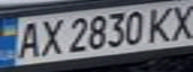0: (124, 8, 148, 46)
2: (63, 14, 90, 54)
3: (106, 10, 130, 48)
8: (87, 11, 112, 51)
A: (9, 19, 45, 60)
K: (145, 3, 178, 44)
X: (33, 16, 66, 57), (163, 1, 193, 42)
